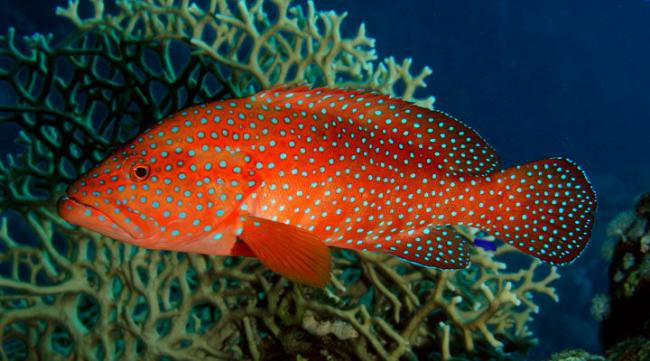fish: (57, 83, 598, 285)
